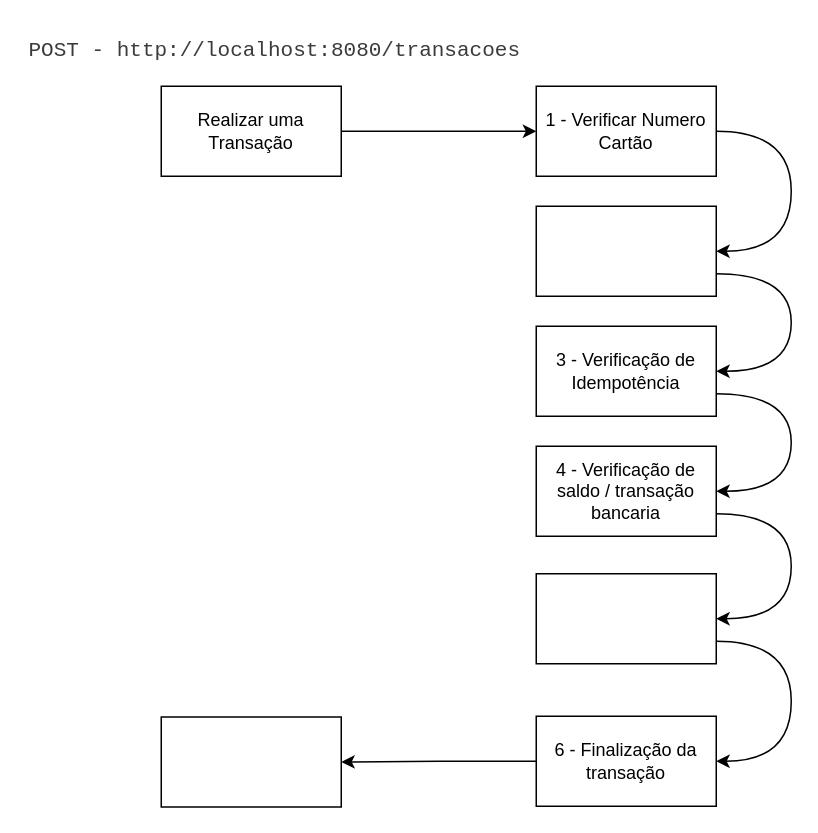
The diagram is 818 pixels wide and 833 high, and some of its shapes have lost their labels. Here are the shapes that lost their labels. From the top down, the centre of each, then its label:
the point at 625,250: 2 - Verificar Senha
the point at 625,618: 5 - Verificação de saldo / transação bancaria
the point at 250,761: Resposta transação
